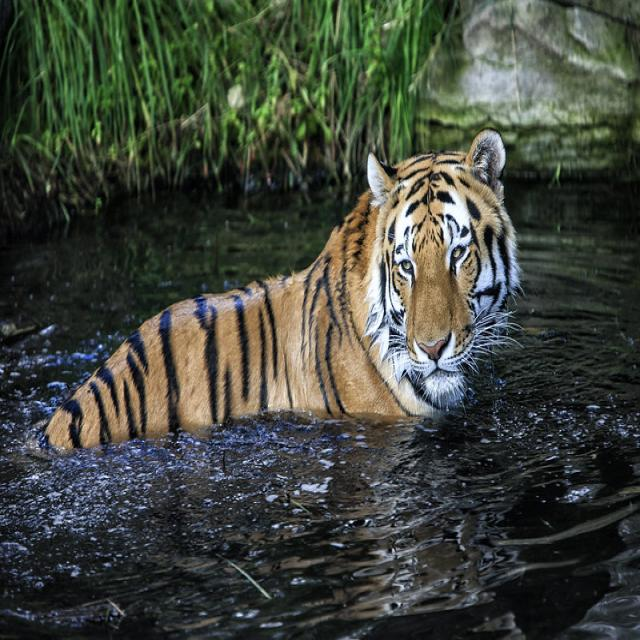Tiger: (30, 126, 521, 458)
